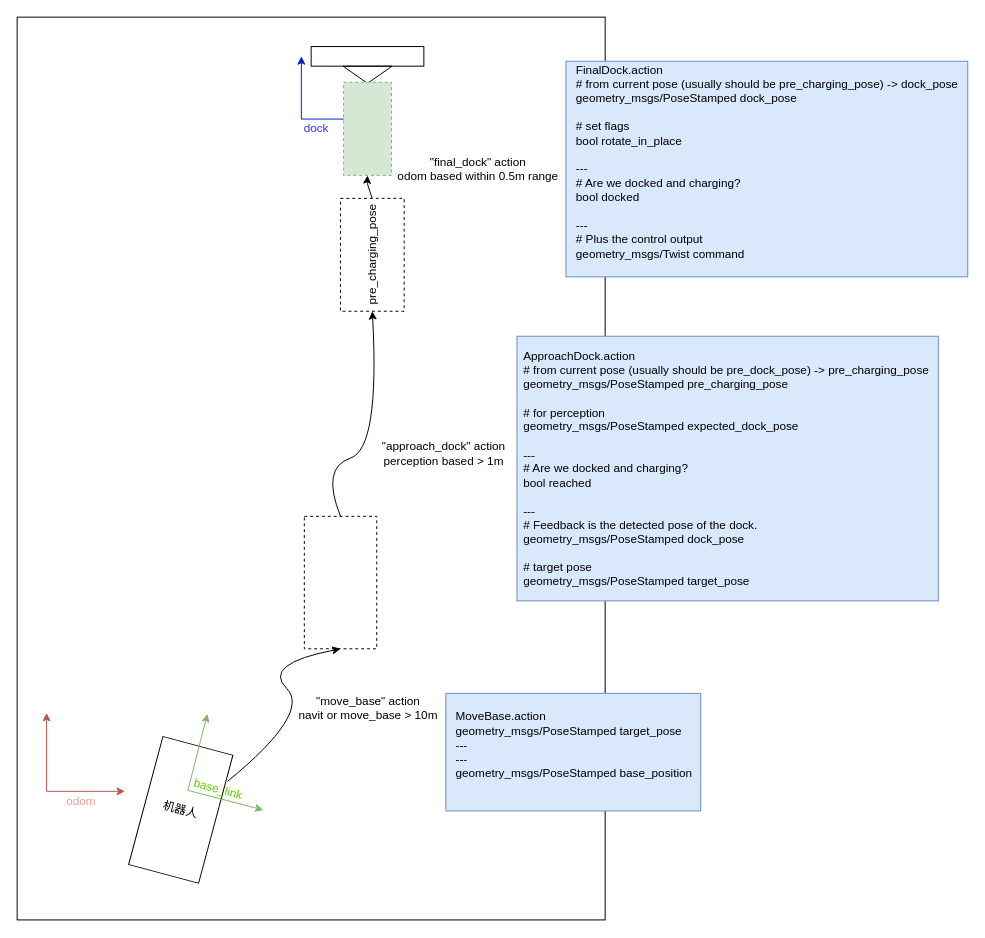
The diagram is 985 pixels wide and 938 high, and some of its shapes have lost their labels. The box of each missing label's shape, as (x1, y1, x2, y2) in pixels:
dock_pose: (343, 81, 392, 175)
pre_dock_pose: (303, 515, 377, 649)
充电桩: (310, 46, 424, 66)
